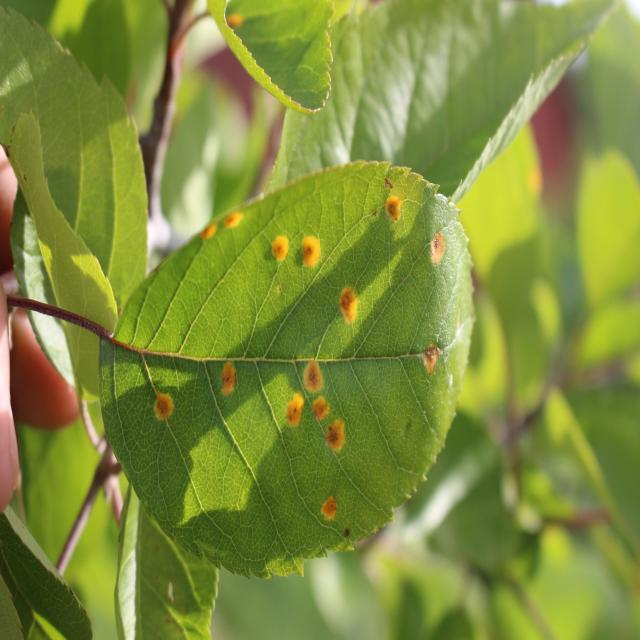Rust: (213, 342, 245, 410), (149, 377, 179, 435), (335, 274, 361, 332), (323, 406, 349, 464), (300, 347, 330, 394), (418, 330, 444, 384), (281, 387, 307, 439), (316, 488, 347, 530), (296, 228, 324, 274), (304, 392, 338, 426), (381, 188, 405, 236), (428, 229, 450, 277), (262, 230, 290, 266), (223, 207, 246, 235), (197, 216, 219, 242)
